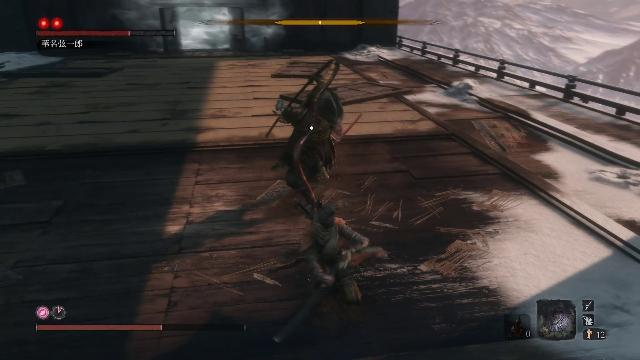sk: (272, 197, 375, 308)
